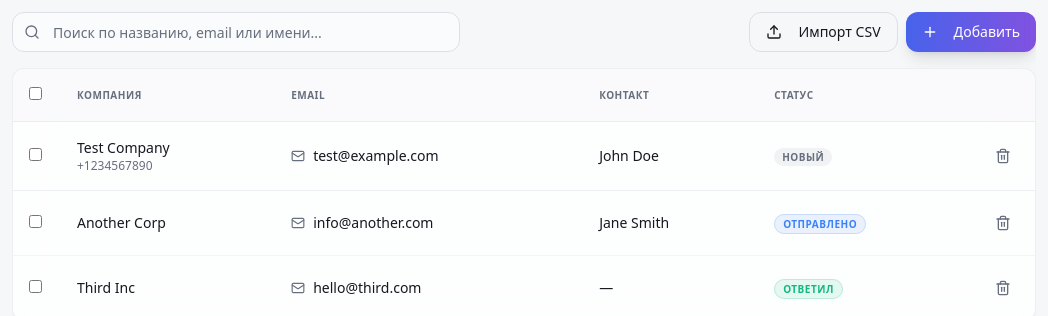
Test: ContactsList › search functionality › should filter contacts by company name
The image size is (1048, 316).
Type "Test Company" into the field with placeholder "Поиск по названию, email или имени..." at point(236, 32), box [12,12,460,52]
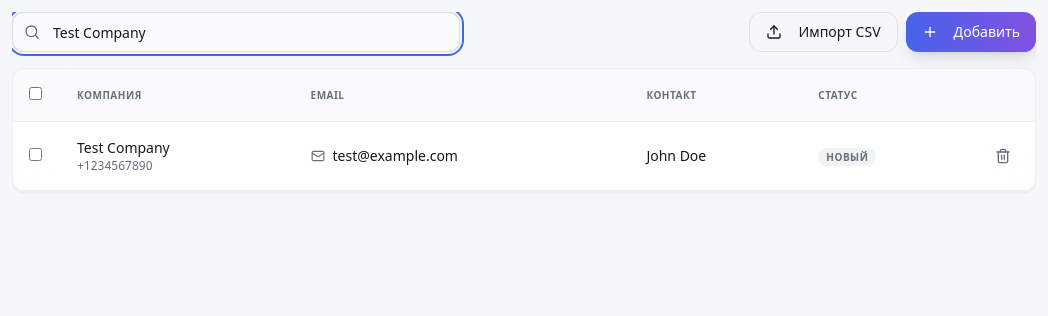
Expected: the text "Test Company" is shown, [77,138,170,157]
Now the text "Another Corp" is gone
